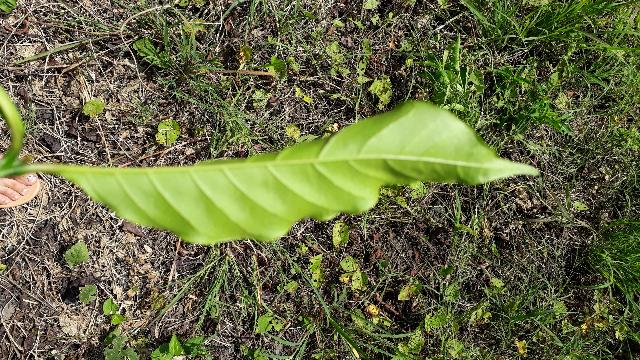healthy: (104, 117, 578, 260)
